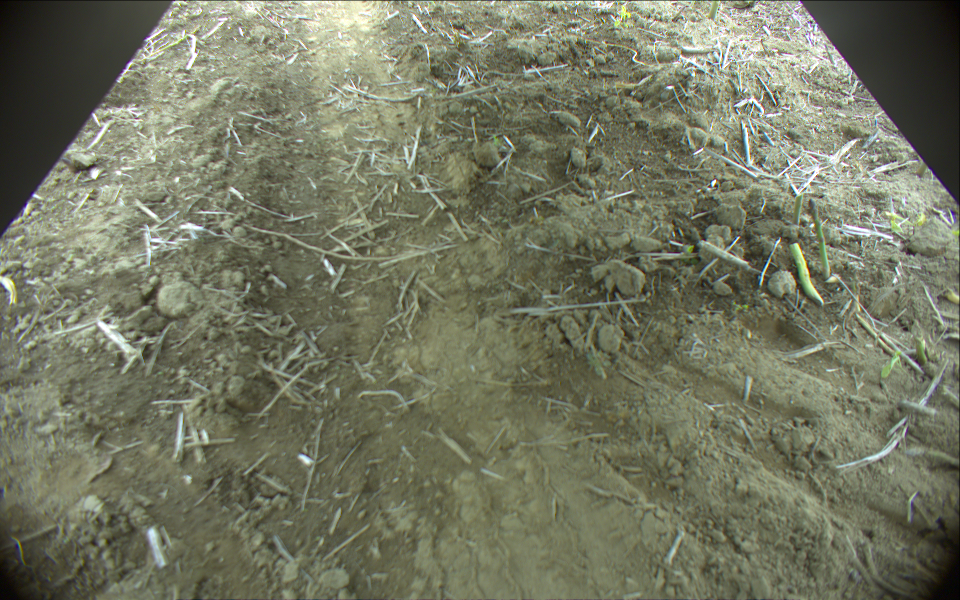aspa: (788, 245, 827, 310), (808, 200, 833, 280), (916, 334, 935, 366), (791, 191, 804, 226), (709, 1, 721, 20)
